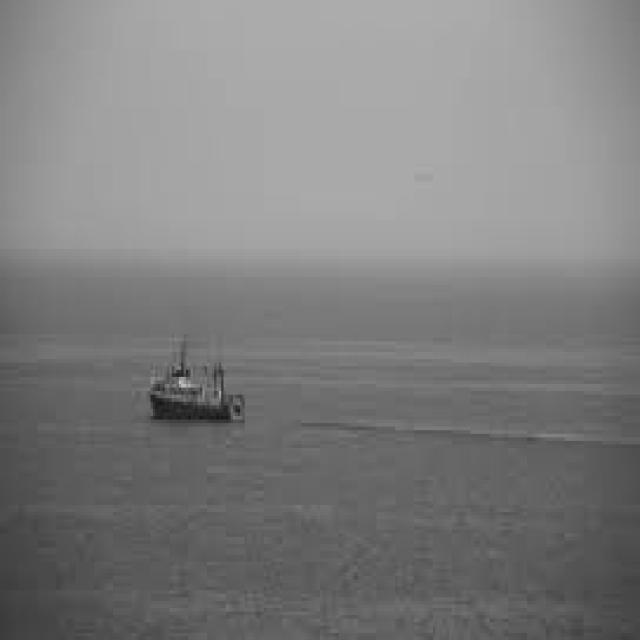fishing boat: (142, 327, 257, 425)
